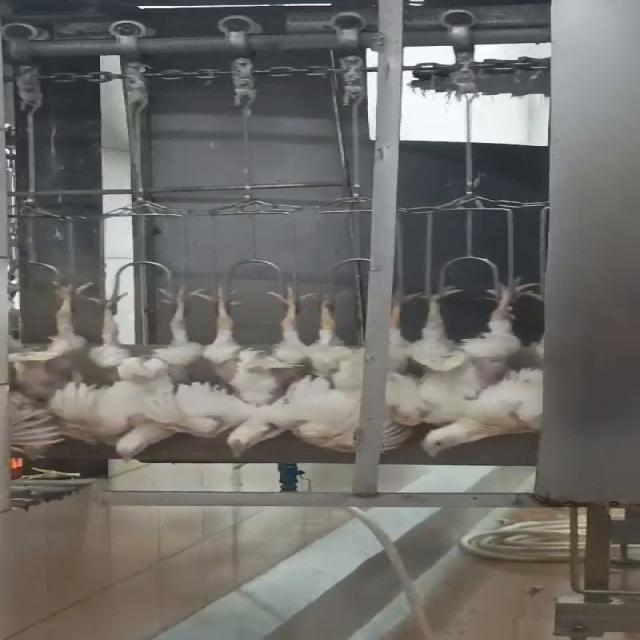chicken: (78, 282, 216, 468), (384, 270, 539, 426), (190, 277, 315, 458), (5, 278, 88, 458), (411, 364, 544, 459), (304, 290, 368, 456)
